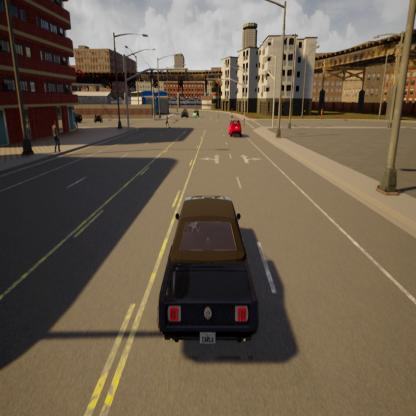Cars: (158, 194, 261, 356), (227, 118, 243, 142)
Pedestrian: (49, 118, 61, 157), (163, 111, 171, 129)
